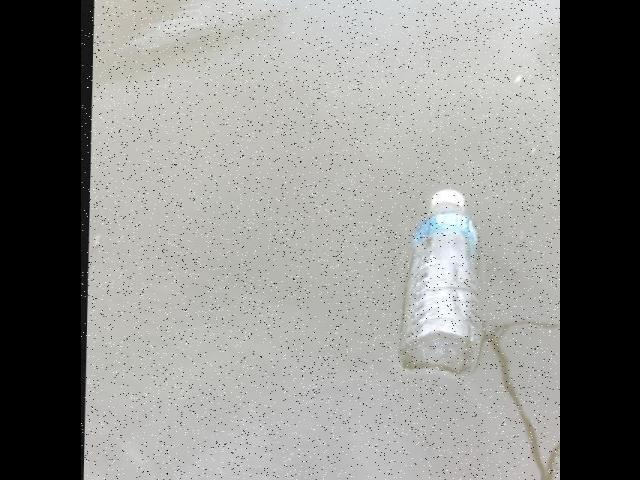Bottle: (401, 190, 475, 360)
